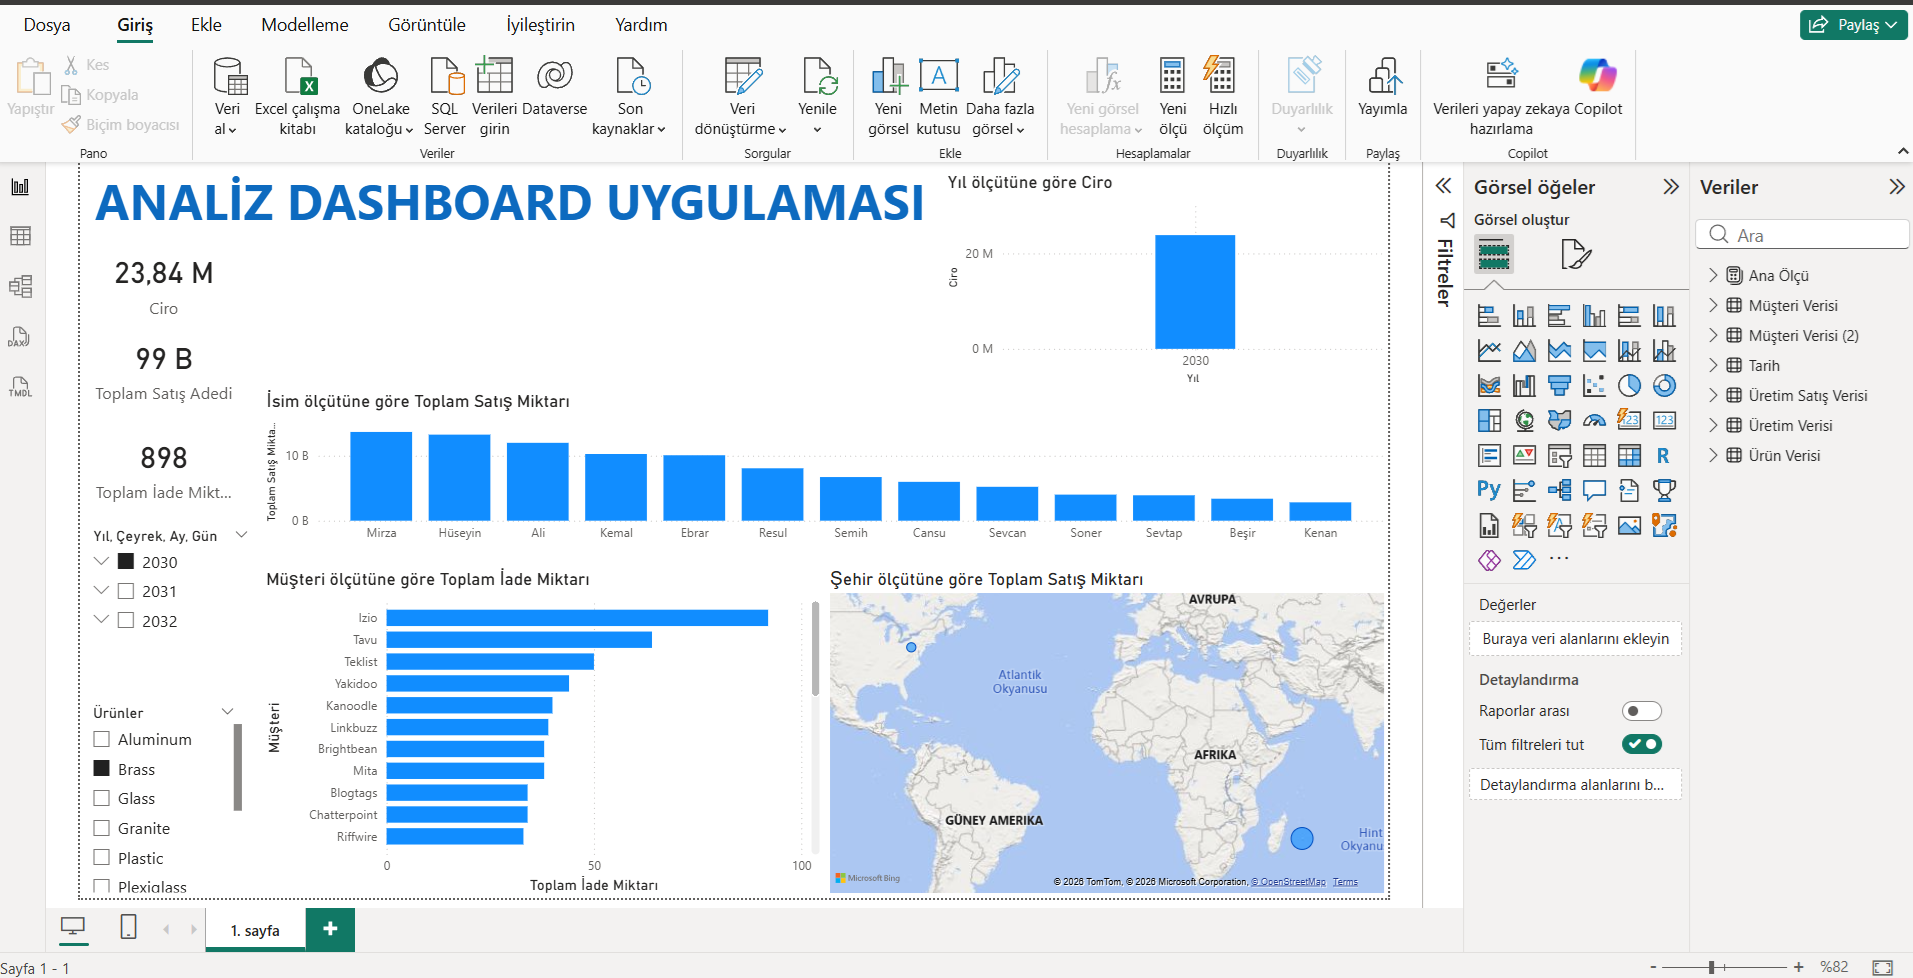

The dashboard page shown, as its layout file describes it:
{"tool":"powerbi","page":{"name":"1. sayfa","canvas":[1280,720],"ordinal":0},"visuals":[{"type":"textbox","box":[9.7,0,856.9,73.9],"z":0},{"type":"columnChart","fields":{"Category":["Üretim Satış Verisi.Tarih.Varyasyon.Tarih Hiyerarşisi.Yıl"],"Y":["Ana Ölçü.Ciro"]},"box":[844.3,9.7,435.7,213],"z":1000},{"type":"card","fields":{"Values":["Ana Ölçü.Ciro"]},"box":[9.7,73.9,144.9,88.5],"z":2000},{"type":"card","fields":{"Values":["Ana Ölçü.Toplam Satış Adedi"]},"box":[9.7,150.8,144.9,102.1],"z":3000},{"type":"card","fields":{"Values":["Sum(Üretim Satış Verisi.İade Miktarı)"]},"box":[9.7,237.3,144.9,122.6],"z":4000},{"type":"columnChart","fields":{"Y":["Sum(Üretim Satış Verisi.Satış Miktarı)"],"Category":["Üretim Satış Verisi.İsim"]},"box":[177,222.7,1103,158.5],"z":5000},{"type":"slicer","fields":{"Values":["Üretim Satış Verisi.Tarih.Varyasyon.Tarih Hiyerarşisi.Yıl","Üretim Satış Verisi.Tarih.Varyasyon.Tarih Hiyerarşisi.Çeyrek","Üretim Satış Verisi.Tarih.Varyasyon.Tarih Hiyerarşisi.Ay","Üretim Satış Verisi.Tarih.Varyasyon.Tarih Hiyerarşisi.Gün"]},"box":[0,352.1,177,120.6],"z":5001},{"type":"slicer","fields":{"Values":["Ürün Verisi.Ürünler"]},"box":[0,526.2,163.4,193.6],"z":5002},{"type":"barChart","fields":{"Category":["Üretim Satış Verisi.Müşteri"],"Y":["Sum(Üretim Satış Verisi.İade Miktarı)"]},"box":[177,396.8,551.5,322.9],"z":5003},{"type":"map","fields":{"Category":["Üretim Satış Verisi.Şehir"],"Size":["Sum(Üretim Satış Verisi.Satış Miktarı)"]},"box":[728.5,396.8,551.5,322.9],"z":5004}]}

Visuals, with their boxes on the page's 1280x720 design canvas (x1, y1, x2, y2). These are canvas units, not pixel positions in the 1913x978 screenshot, which may show the page scaled, cropped or inside an application window:
textbox: left=10, top=0, right=867, bottom=74
columnChart - Üretim Satış Verisi.Tarih.Varyasyon.Tarih Hiyerarşisi.Yıl x Ana Ölçü.Ciro: left=844, top=10, right=1280, bottom=223
card - Ana Ölçü.Ciro: left=10, top=74, right=155, bottom=162
card - Ana Ölçü.Toplam Satış Adedi: left=10, top=151, right=155, bottom=253
card - Sum(Üretim Satış Verisi.İade Miktarı): left=10, top=237, right=155, bottom=360
columnChart - Sum(Üretim Satış Verisi.Satış Miktarı) x Üretim Satış Verisi.İsim: left=177, top=223, right=1280, bottom=381
slicer - Üretim Satış Verisi.Tarih.Varyasyon.Tarih Hiyerarşisi.Yıl x Üretim Satış Verisi.Tarih.Varyasyon.Tarih Hiyerarşisi.Çeyrek: left=0, top=352, right=177, bottom=473
slicer - Ürün Verisi.Ürünler: left=0, top=526, right=163, bottom=720
barChart - Üretim Satış Verisi.Müşteri x Sum(Üretim Satış Verisi.İade Miktarı): left=177, top=397, right=728, bottom=720
map - Üretim Satış Verisi.Şehir x Sum(Üretim Satış Verisi.Satış Miktarı): left=728, top=397, right=1280, bottom=720
